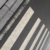zebra: (1, 6, 50, 50)
